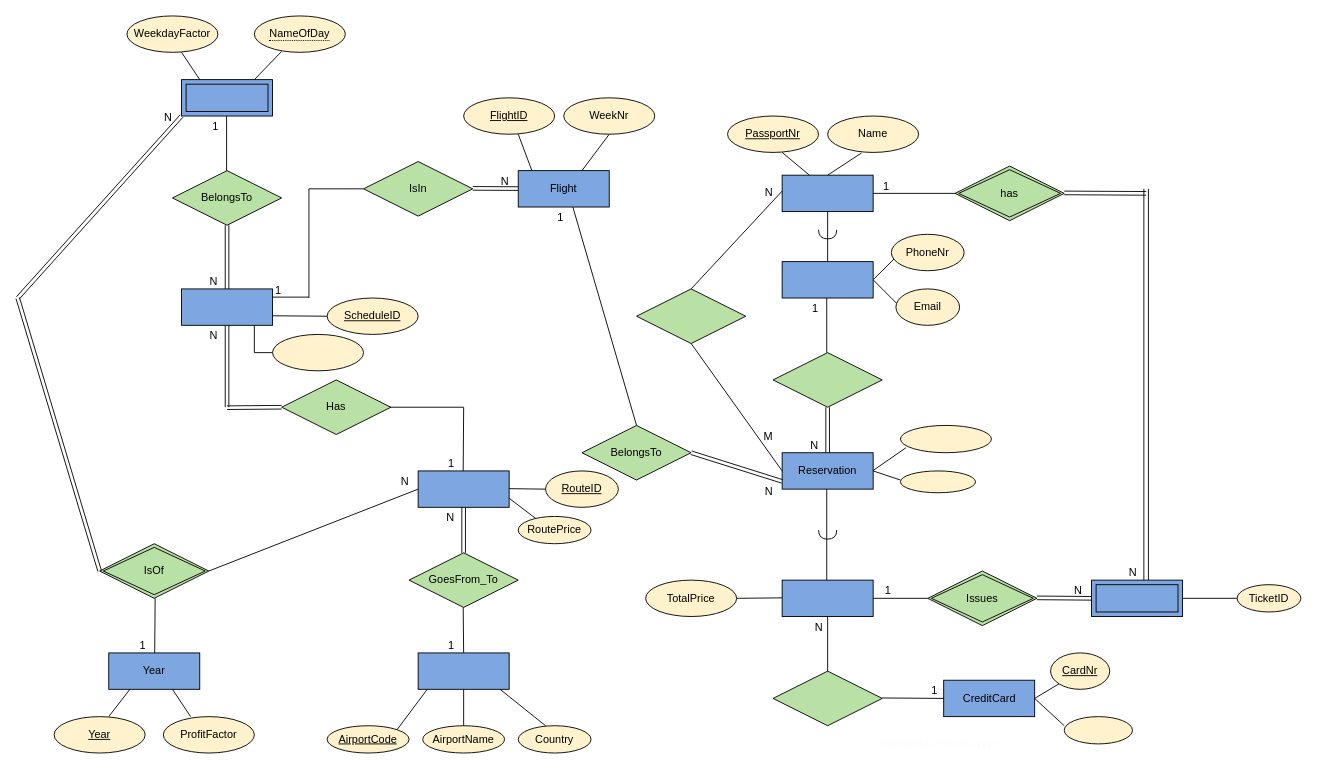
Some shapes in this 1317 by 777 pixel diagram are drawn without their labels. The centre of each missing label's shape, as x and y in pixels:
"Airport" belongs at [463,670].
"Booking" belongs at [827,598].
"CardHolder" belongs at [1097,730].
"Contact" belongs at [827,279].
"DepartureTime" belongs at [318,352].
"IsPaidBy" belongs at [827,698].
"makes" belongs at [827,379].
"NumberOfSeats" belongs at [945,439].
"Passenger" belongs at [827,193].
"ResID" belongs at [938,481].
"Route" belongs at [463,488].
"Ticket" belongs at [1137,598].
"UnpaidReservation" belongs at [691,316].
"WeekDay" belongs at [227,97].
"WeeklySchedule" belongs at [227,306].
